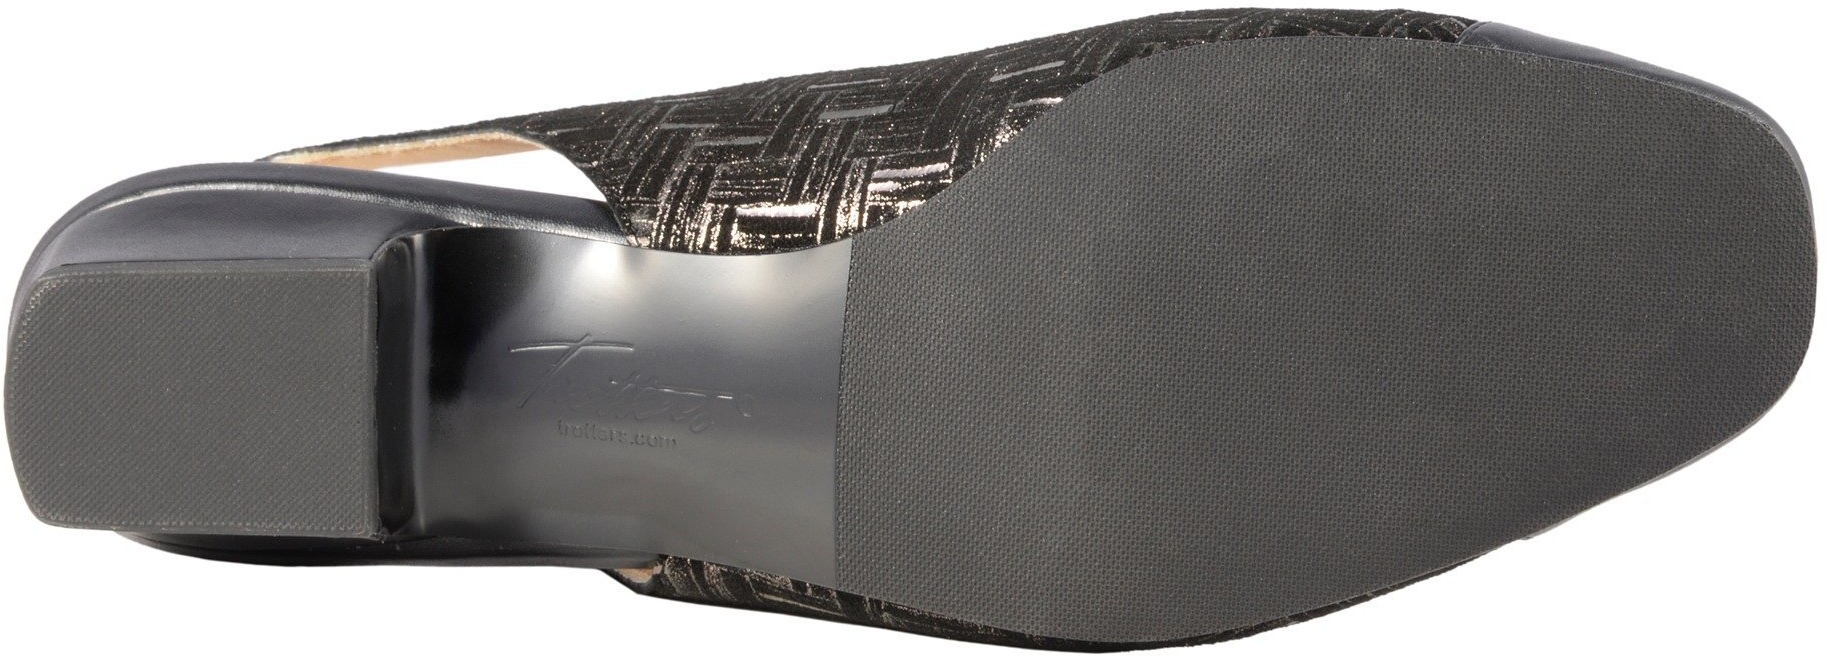other: (1349, 79, 1609, 338), (1107, 333, 1339, 574), (864, 250, 1099, 467), (1103, 89, 1335, 299), (1345, 344, 1547, 530), (1613, 171, 1806, 363), (45, 303, 206, 483), (220, 322, 370, 488), (946, 472, 1099, 623), (1551, 373, 1656, 469), (1002, 148, 1099, 238)
